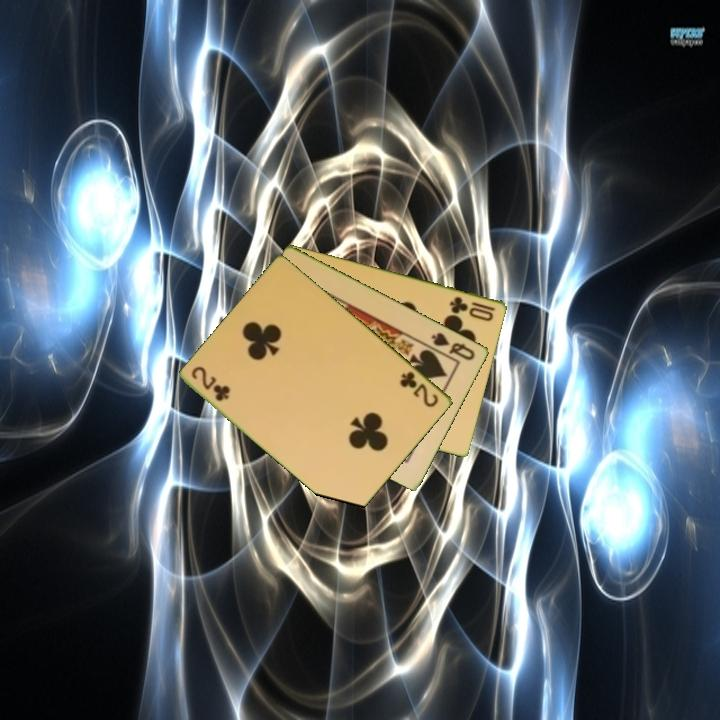10c: (447, 292, 498, 324)
2c: (397, 367, 442, 410), (188, 363, 233, 404)
Qs: (428, 328, 478, 363)
